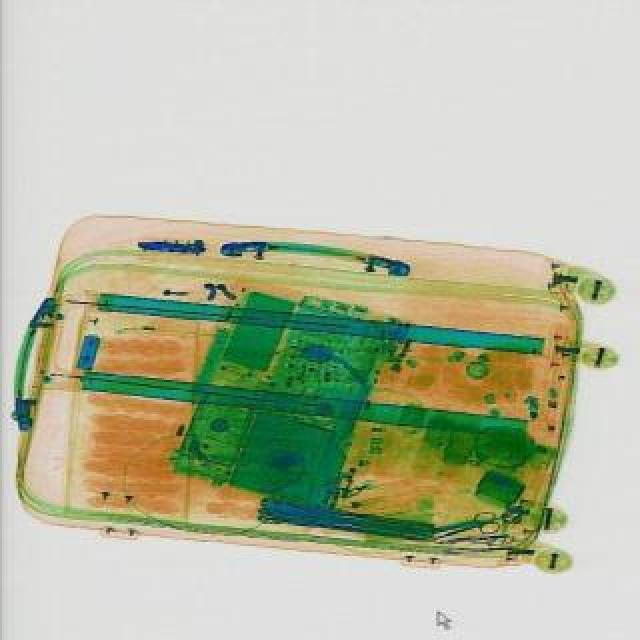pliers: (426, 504, 502, 552)
